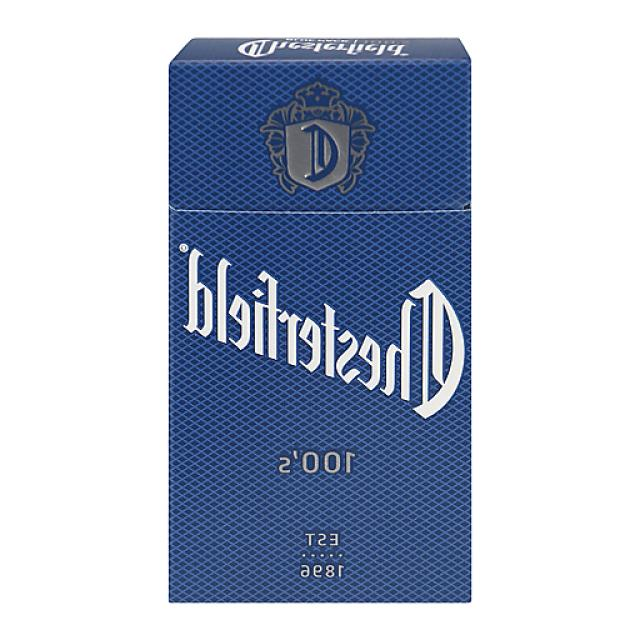chesterfield: (168, 34, 474, 603)
